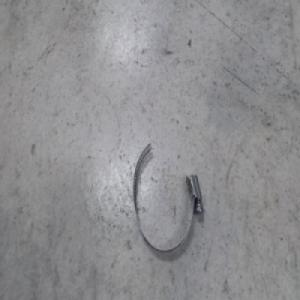AdjustableClamp: (131, 137, 203, 251)
